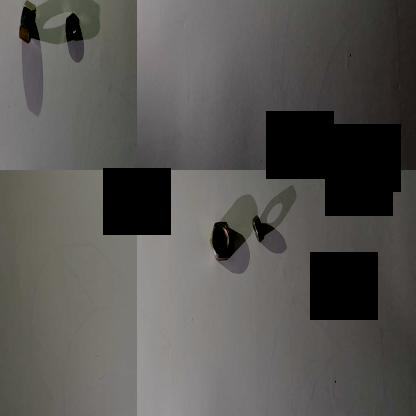NUTS: (204, 207, 236, 268), (15, 0, 38, 53), (60, 2, 86, 48), (249, 202, 270, 252)
